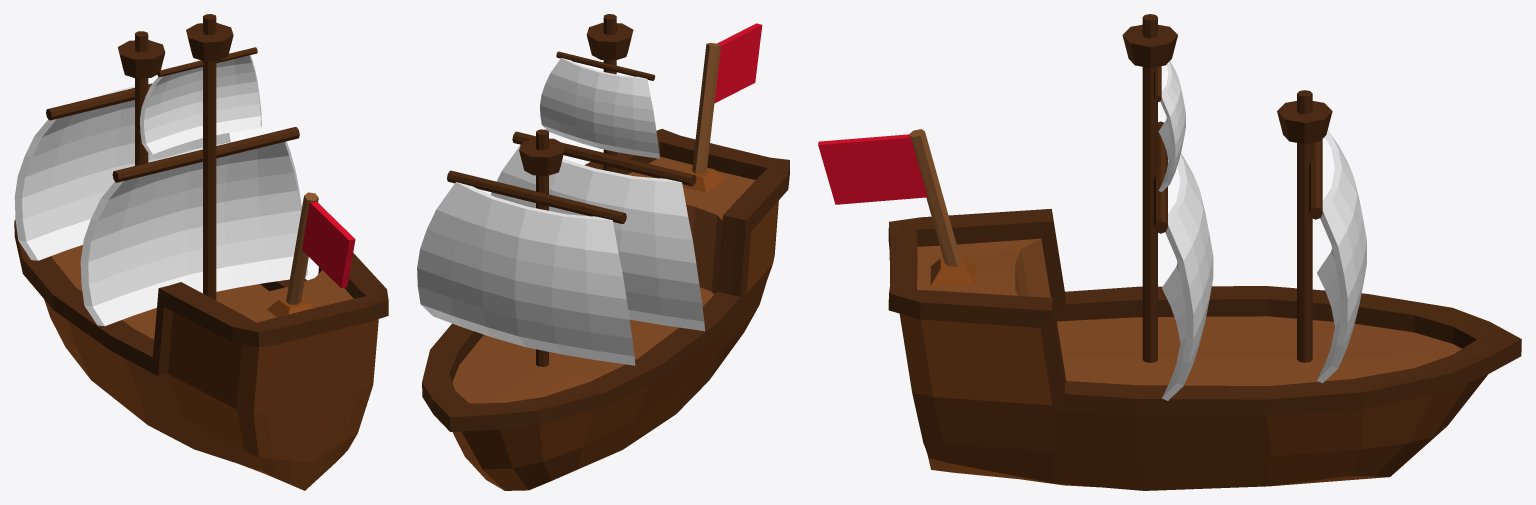
Rendered from PirateShipHard.fbx.
3 views of the same model, side by side, from view 1: azimuth 30°, elevation 25°; view 2: azimuth 150°, elevation 25°; view 3: azimuth 270°, elevation 25° (orthographic). The views are drawn at different scales.
Visible parts, largest first — view 1: Ship, Cube.002, Cube.003, Cube, Mast, Cube.004, Mast.001, Cylinder.001, Cylinder.004, Cylinder.002, Cylinder, Cube.005; view 2: Ship, Cube.003, Cube.002, Cube, Cube.004, Cylinder.002, Mast.001, Cylinder.004, Cylinder.001, Mast, Cylinder, Cube.005; view 3: Ship, Cube.002, Cube.003, Mast, Cube.004, Mast.001, Cylinder.004, Cube, Cylinder.001, Cube.005, Cylinder.002.
Boxes of the visible parts, x1=… form: Ship: x1=14, y1=219, x2=388, y2=490; Cube.002: x1=80, y1=141, x2=307, y2=326; Cube.003: x1=14, y1=82, x2=230, y2=260; Cube: x1=140, y1=55, x2=261, y2=154; Mast: x1=186, y1=14, x2=233, y2=300; Cube.004: x1=302, y1=201, x2=355, y2=288; Mast.001: x1=118, y1=31, x2=165, y2=165; Cylinder.001: x1=112, y1=127, x2=299, y2=182; Cylinder.004: x1=286, y1=192, x2=318, y2=304; Cylinder.002: x1=46, y1=83, x2=151, y2=120; Cylinder: x1=157, y1=47, x2=257, y2=77; Cube.005: x1=267, y1=298, x2=313, y2=317; Ship: x1=422, y1=129, x2=789, y2=490; Cube.003: x1=417, y1=182, x2=635, y2=365; Cube.002: x1=491, y1=144, x2=704, y2=331; Cube: x1=540, y1=58, x2=659, y2=158; Cube.004: x1=714, y1=23, x2=762, y2=103; Cylinder.002: x1=447, y1=170, x2=626, y2=223; Mast.001: x1=519, y1=129, x2=565, y2=366; Cylinder.004: x1=692, y1=43, x2=720, y2=173; Cylinder.001: x1=512, y1=131, x2=696, y2=186; Mast: x1=586, y1=14, x2=633, y2=172; Cylinder: x1=556, y1=51, x2=655, y2=80; Cube.005: x1=682, y1=166, x2=725, y2=192; Ship: x1=888, y1=209, x2=1521, y2=490; Cube.002: x1=1162, y1=153, x2=1213, y2=400; Cube.003: x1=1317, y1=130, x2=1366, y2=383; Mast: x1=1122, y1=14, x2=1177, y2=362; Cube.004: x1=818, y1=134, x2=927, y2=204; Mast.001: x1=1277, y1=90, x2=1332, y2=362; Cylinder.004: x1=909, y1=129, x2=961, y2=266; Cube: x1=1158, y1=61, x2=1185, y2=192; Cylinder.001: x1=1153, y1=121, x2=1167, y2=233; Cube.005: x1=930, y1=258, x2=975, y2=285; Cylinder.002: x1=1309, y1=139, x2=1322, y2=219.
Size of the model in its own units: 3741 by 6676 by 9050.
